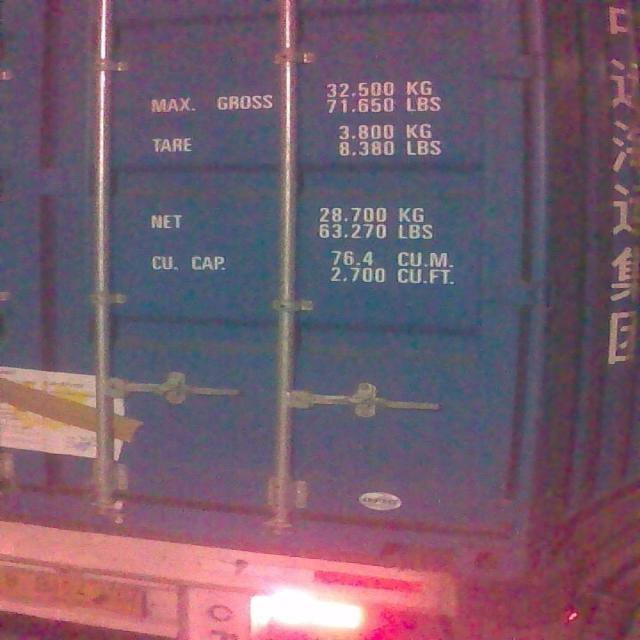seal: (109, 492, 130, 526)
